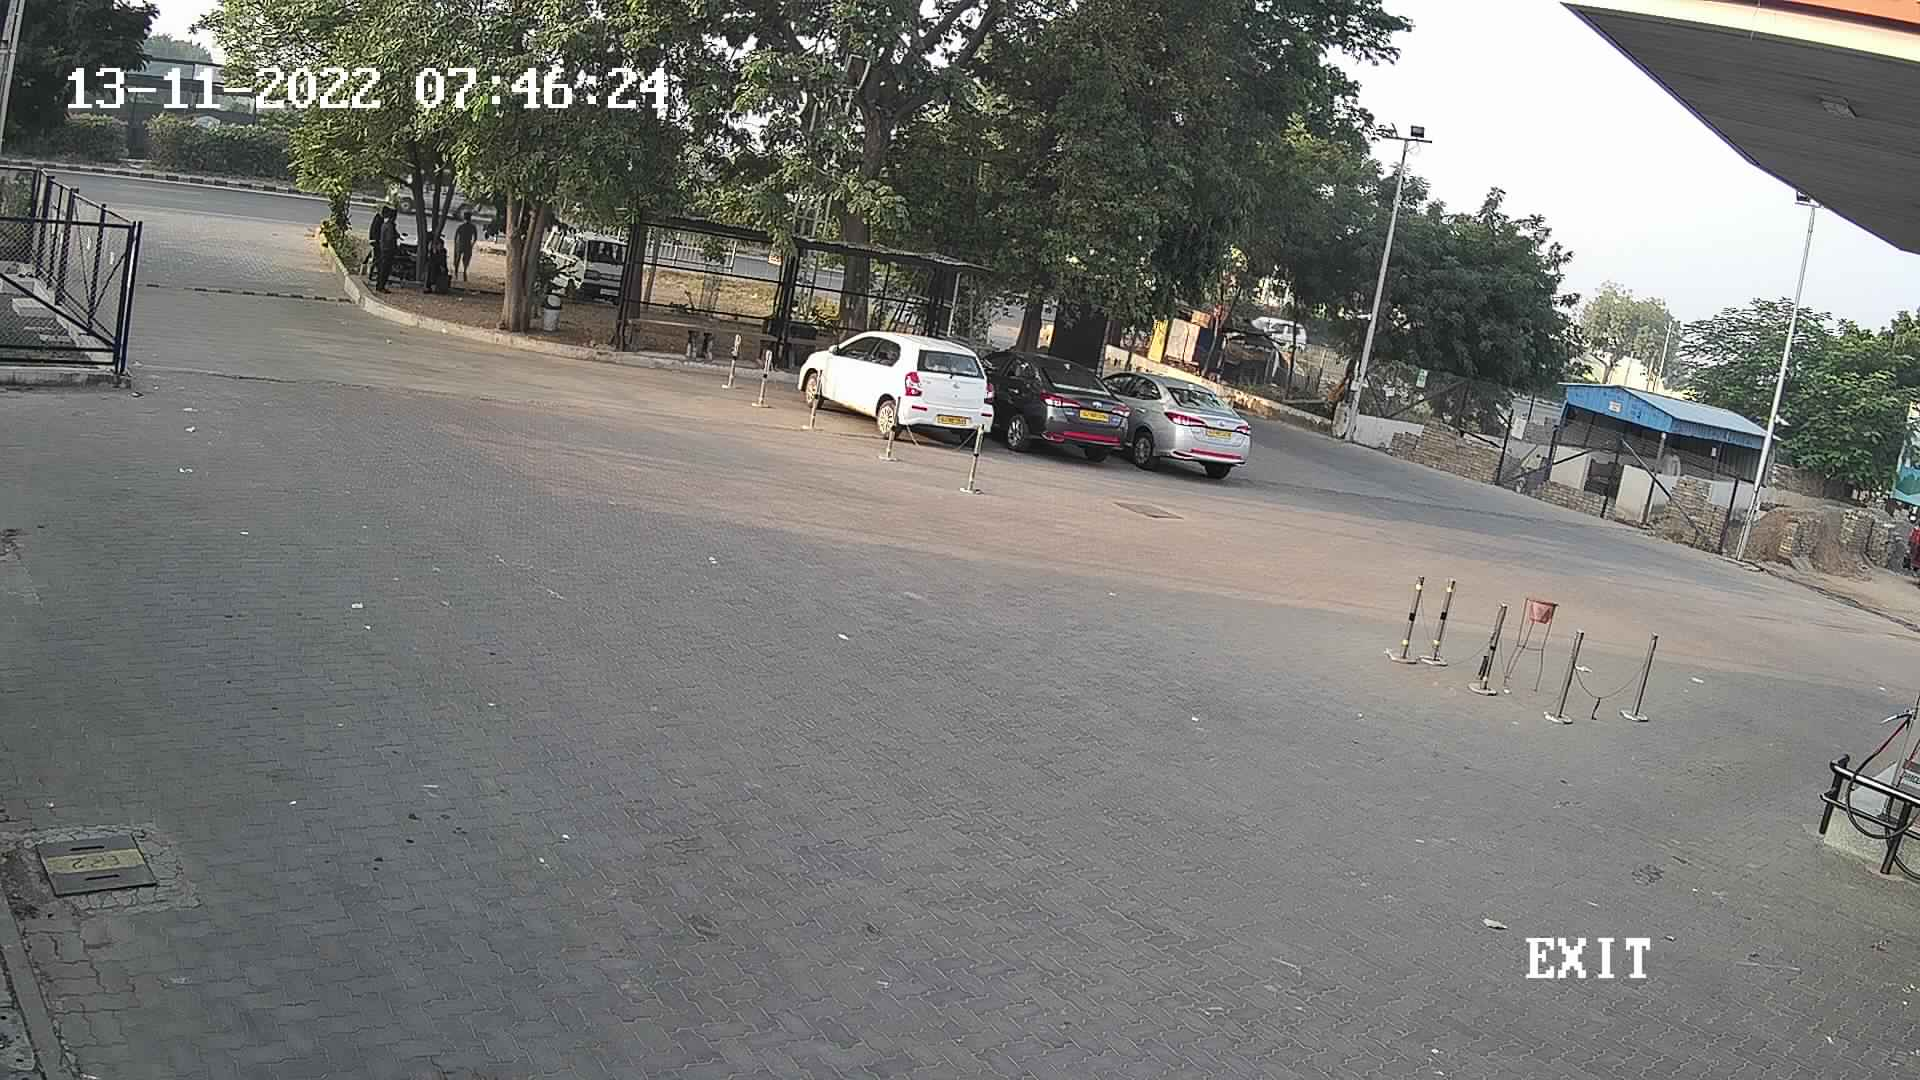Car: (786, 323, 1010, 459), (967, 342, 1133, 476), (1092, 360, 1259, 487), (529, 206, 640, 309)
